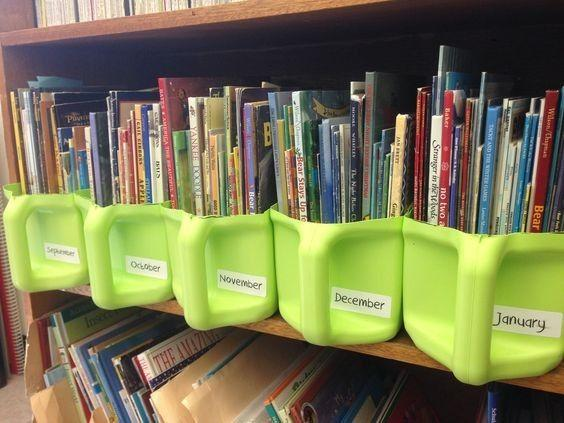HDPE: (404, 218, 564, 387), (269, 209, 403, 346), (164, 207, 278, 333), (78, 203, 168, 309), (0, 184, 87, 293)
